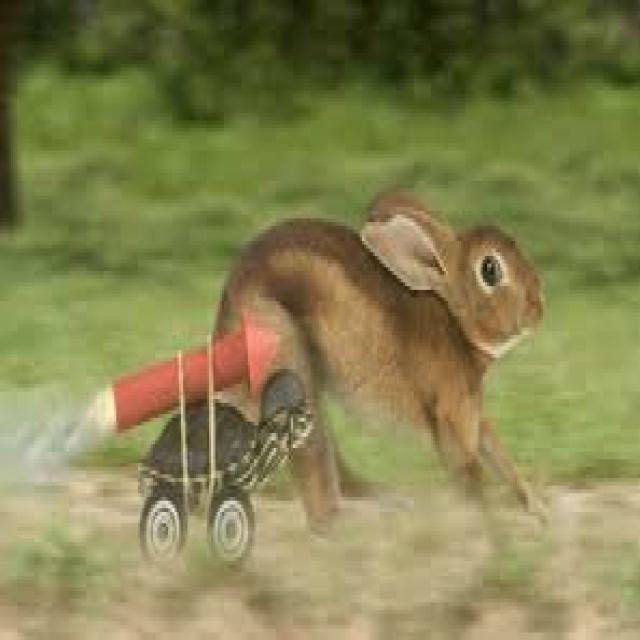hare: (215, 184, 541, 520)
